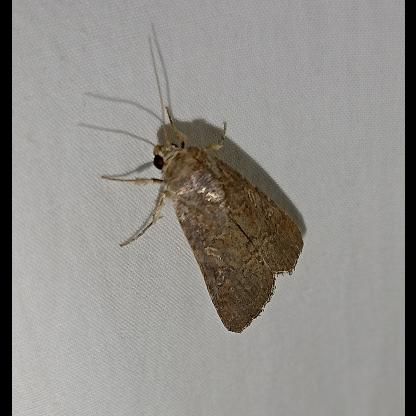Fall Armyworm Moth: (71, 34, 305, 336)
